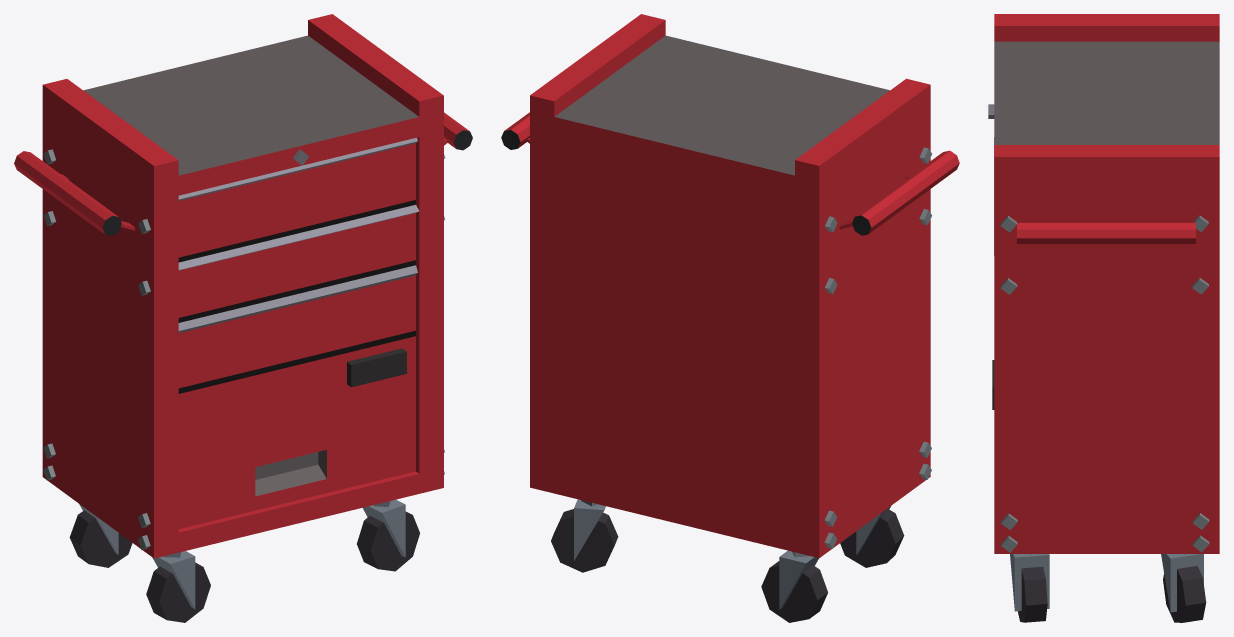
Rendered from ToolCabinet.fbx.
3 renders of one model, left to right at view 1: azimuth 30°, elevation 25°; view 2: azimuth 150°, elevation 25°; view 3: azimuth 270°, elevation 25°, orthographic.
Visible parts, largest first — view 1: ToolCabinet_base, ThickTray, ThinTray, Wheels; view 2: ToolCabinet_base, Wheels; view 3: ToolCabinet_base, Wheels.
Part boxes in pixels (left/top/right/bottom): ToolCabinet_base: left=14, top=14, right=472, bottom=558; ThickTray: left=178, top=265, right=417, bottom=393; ThinTray: left=178, top=137, right=417, bottom=257; Wheels: left=69, top=499, right=419, bottom=622; ToolCabinet_base: left=501, top=14, right=959, bottom=558; Wheels: left=551, top=499, right=904, bottom=622; ToolCabinet_base: left=988, top=14, right=1219, bottom=553; Wheels: left=1010, top=554, right=1206, bottom=622.
Size of the model in its own units: 97.31 by 120 by 51.97.
